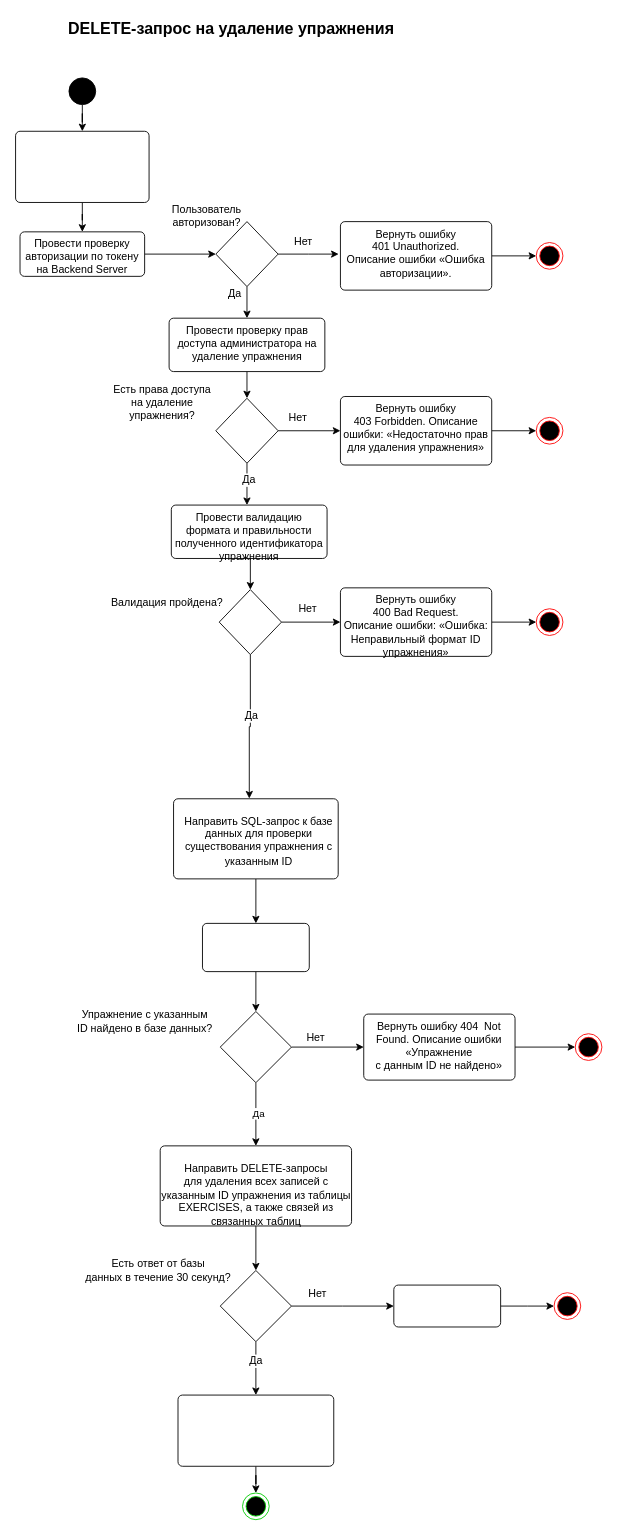
The diagram is 618 pixels wide and 1535 high, and some of its shapes have lost their labels. Each missing label, with the centre of its shape:
Вернуть JSON-ответ с ID упражнения и статусом ответа 200 deleted: pixel 255 1430
Вернуть ошибку 504 Gateway Timeout: pixel 447 1305
Направить DELETE-запрос с Frontend на Backend Server для удаления упражнения: pixel 82 166
Провести проверку полученного ответа: pixel 255 947
